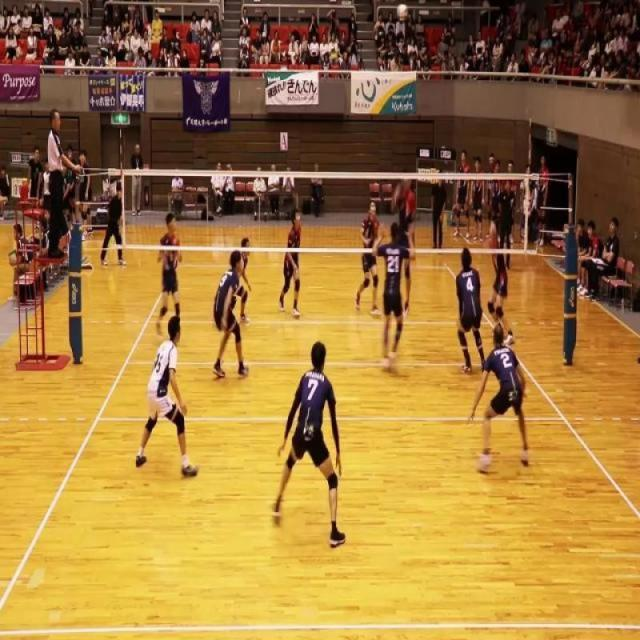volleyball: (396, 4, 408, 22)
